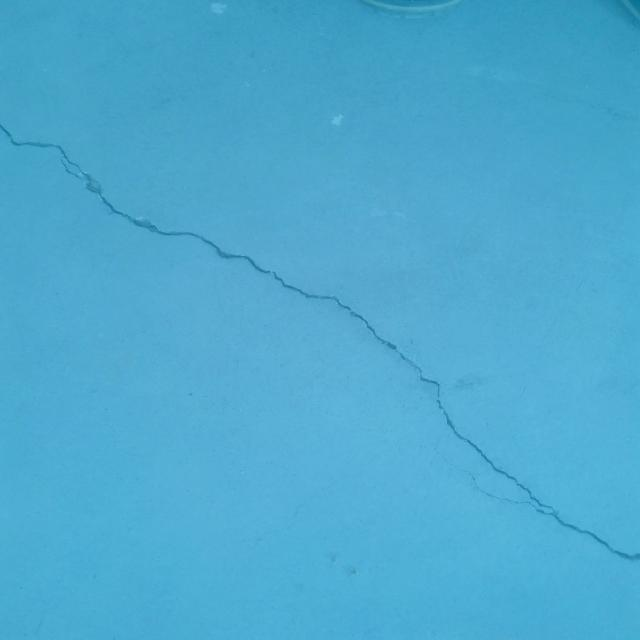crack: (0, 123, 640, 562)
